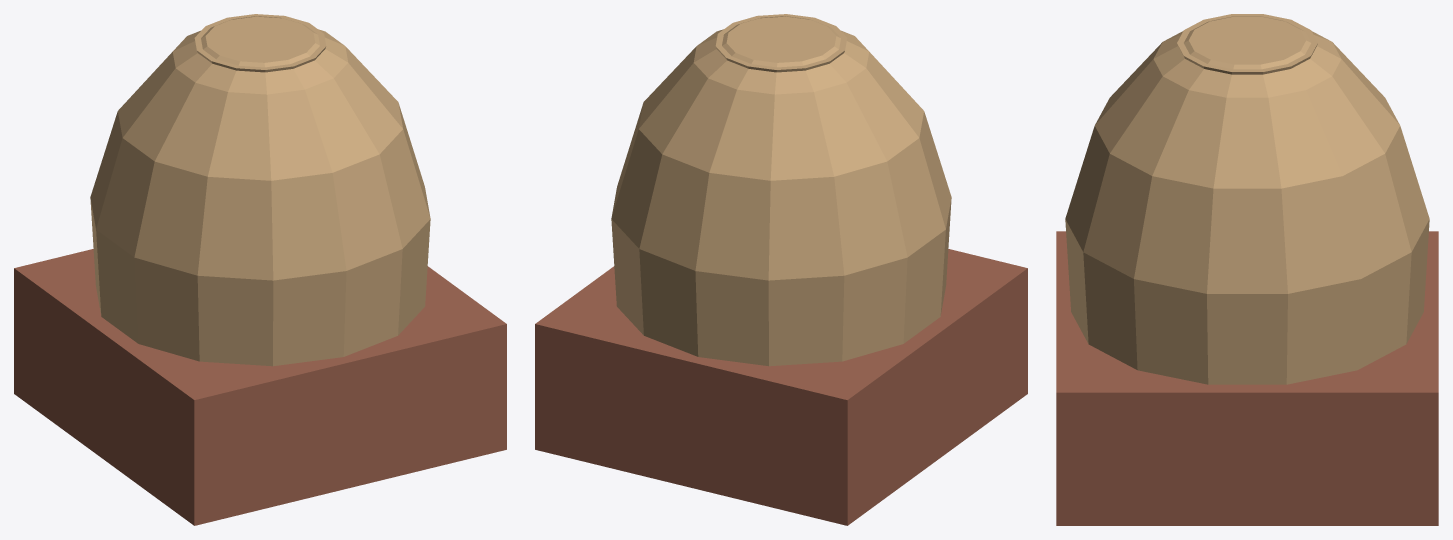
File: Yard_Tandyr.obj
The picture shows the model from 3 angles, left to right: view 1: azimuth 30°, elevation 25°; view 2: azimuth 150°, elevation 25°; view 3: azimuth 270°, elevation 25°; orthographic projection. The views are drawn at different scales.
Visible parts, largest first — view 1: Yard_Tandyr; view 2: Yard_Tandyr; view 3: Yard_Tandyr.
Part boxes in pixels (x1,y1,x2,y2): Yard_Tandyr: (14, 14, 506, 525); Yard_Tandyr: (535, 14, 1027, 525); Yard_Tandyr: (1056, 14, 1438, 525).
Size of the model in its own units: 1.3 by 1.52 by 1.3.
